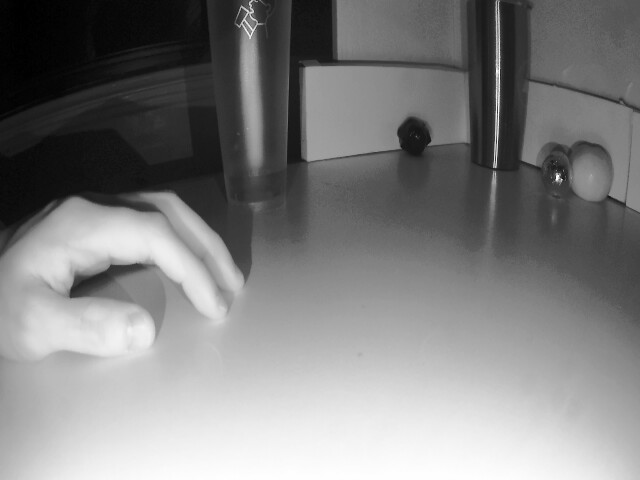black: (396, 118, 432, 161)
silver: (538, 147, 576, 208)
